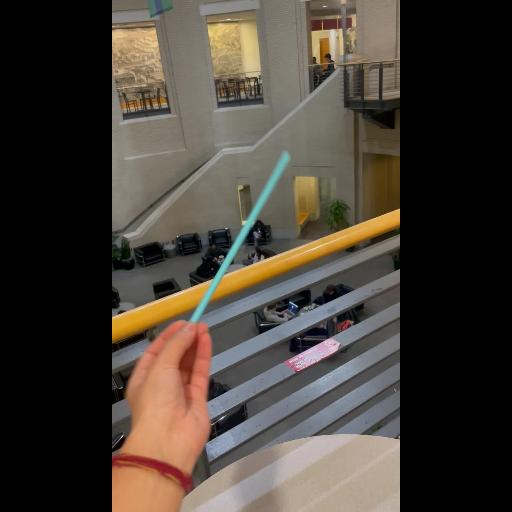straw: (189, 152, 291, 318)
